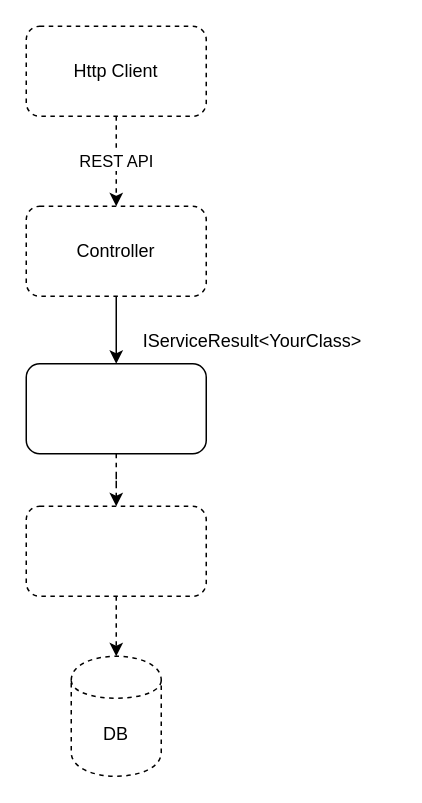
The diagram is 422 pixels wide and 803 high, and some of its shapes have lost their labels. The centre of each missing label's shape, as x and y in pixels:
"Repository" goes at point (115, 550).
"Service" goes at point (115, 408).
